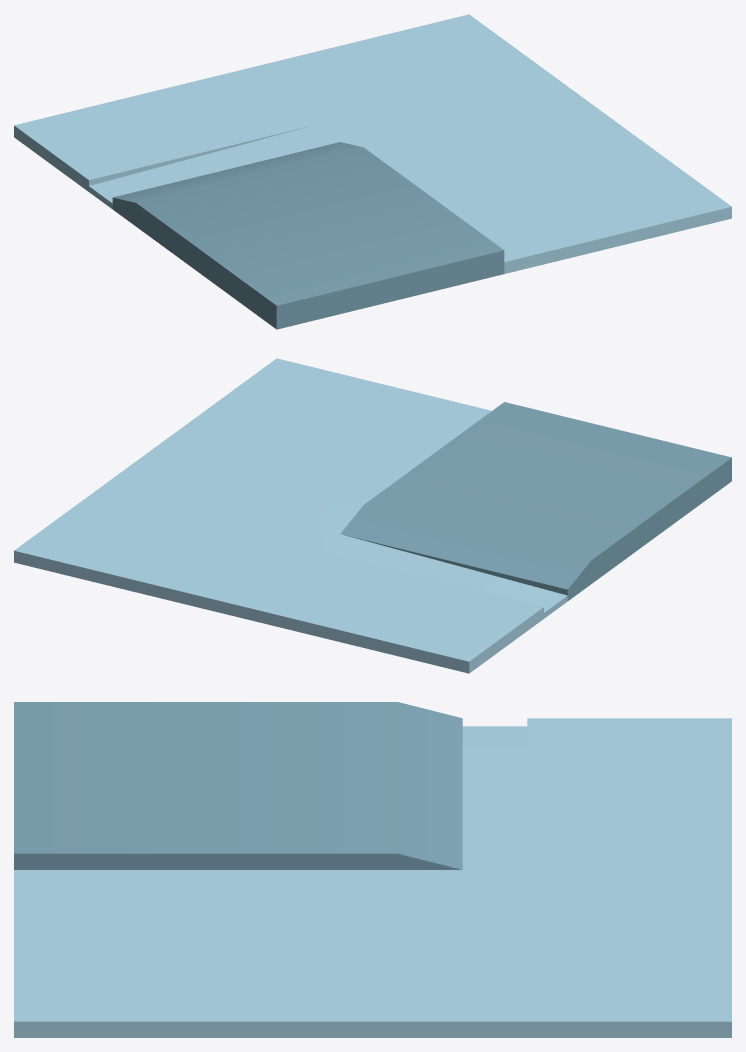
File: roadCurbEnd.glb
3 views of the same model, one above another, from view 1: azimuth 30°, elevation 25°; view 2: azimuth 150°, elevation 25°; view 3: azimuth 270°, elevation 25° (orthographic). The views are drawn at different scales.
Parts seen in each view (by area): view 1: roadCurbEnd; view 2: roadCurbEnd; view 3: roadCurbEnd.
Boxes of the visible parts, <box> form: roadCurbEnd: <box>14,14,731,329</box>; roadCurbEnd: <box>14,358,731,673</box>; roadCurbEnd: <box>14,702,731,1037</box>.
Bounding box in the file's own units: 1 × 0.05 × 1.
